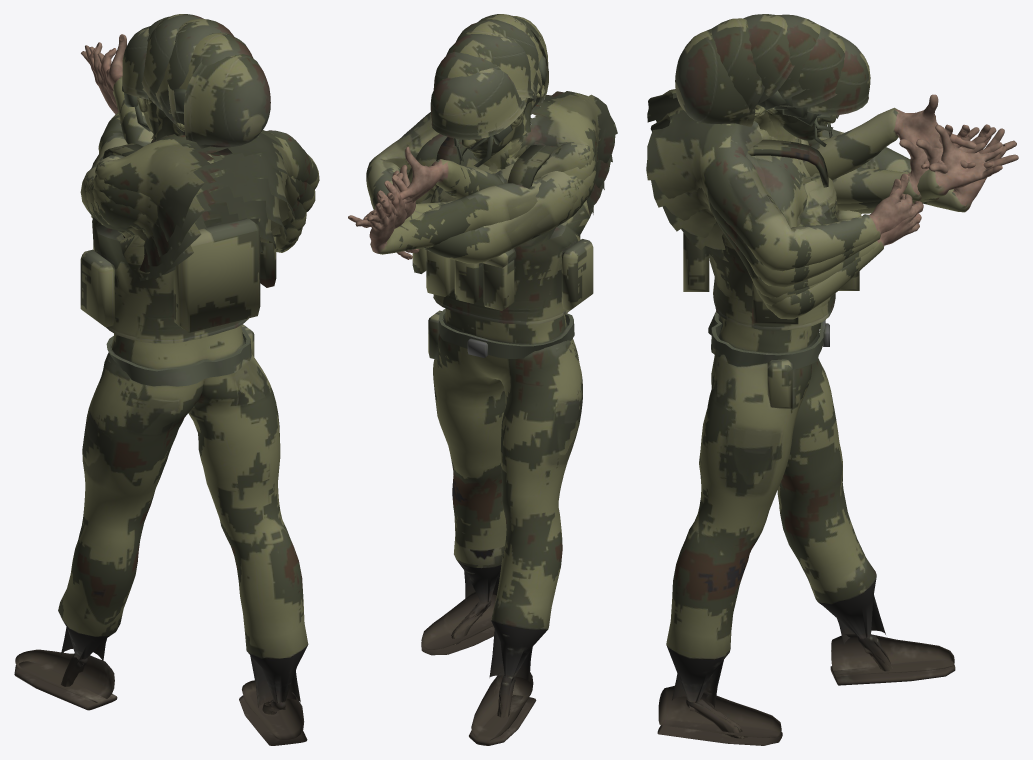
The model's file is crew_verba.glb.
3 views of the same model, side by side, from view 1: azimuth 30°, elevation 25°; view 2: azimuth 150°, elevation 25°; view 3: azimuth 270°, elevation 25° (orthographic). The views are drawn at different scales.
Visible parts, largest first — view 1: turret, ca5, th5, ca4, ca3, ca2, th3, ca1, th0, th2, th4, ca0; view 2: turret, ca5, ca0, th0, ca1, th2, th3, ca4, th1, th5, th4, ca2 (+1 smaller); view 3: turret, ca5, ca0, ca4, th5, ca3, th3, th0, th1, ca1, th4, ca2 (+1 smaller).
Part boxes in pixels (left/top/right/bottom): turret: left=14, top=143, right=308, bottom=745; ca5: left=95, top=34, right=319, bottom=249; th5: left=151, top=54, right=270, bottom=155; ca4: left=93, top=53, right=315, bottom=256; ca3: left=92, top=53, right=306, bottom=268; ca2: left=88, top=46, right=302, bottom=278; th3: left=155, top=18, right=233, bottom=139; ca1: left=85, top=42, right=298, bottom=281; th0: left=122, top=26, right=213, bottom=173; th2: left=141, top=14, right=203, bottom=126; th4: left=168, top=32, right=253, bottom=135; ca0: left=80, top=47, right=295, bottom=252; turret: left=412, top=137, right=593, bottom=745; ca5: left=366, top=91, right=617, bottom=259; ca0: left=348, top=134, right=574, bottom=263; th0: left=430, top=67, right=526, bottom=167; ca1: left=369, top=133, right=580, bottom=259; th2: left=446, top=34, right=533, bottom=171; th3: left=456, top=20, right=538, bottom=171; ca4: left=370, top=107, right=612, bottom=259; th1: left=433, top=52, right=527, bottom=171; th5: left=485, top=15, right=548, bottom=171; th4: left=478, top=14, right=542, bottom=171; ca2: left=363, top=170, right=593, bottom=255; turret: left=657, top=130, right=955, bottom=745; ca5: left=646, top=89, right=976, bottom=271; ca0: left=756, top=124, right=1018, bottom=319; ca4: left=650, top=106, right=985, bottom=287; th5: left=675, top=28, right=801, bottom=143; ca3: left=662, top=125, right=983, bottom=298; th3: left=743, top=14, right=798, bottom=142; th0: left=760, top=32, right=870, bottom=146; th1: left=767, top=25, right=845, bottom=141; ca1: left=705, top=124, right=1006, bottom=313; th4: left=711, top=18, right=800, bottom=143; ca2: left=681, top=124, right=1002, bottom=306.
Size of the model in its own units: 0.6315 by 1.82 by 0.8881.
Materials: 1 (1 with a texture image).
